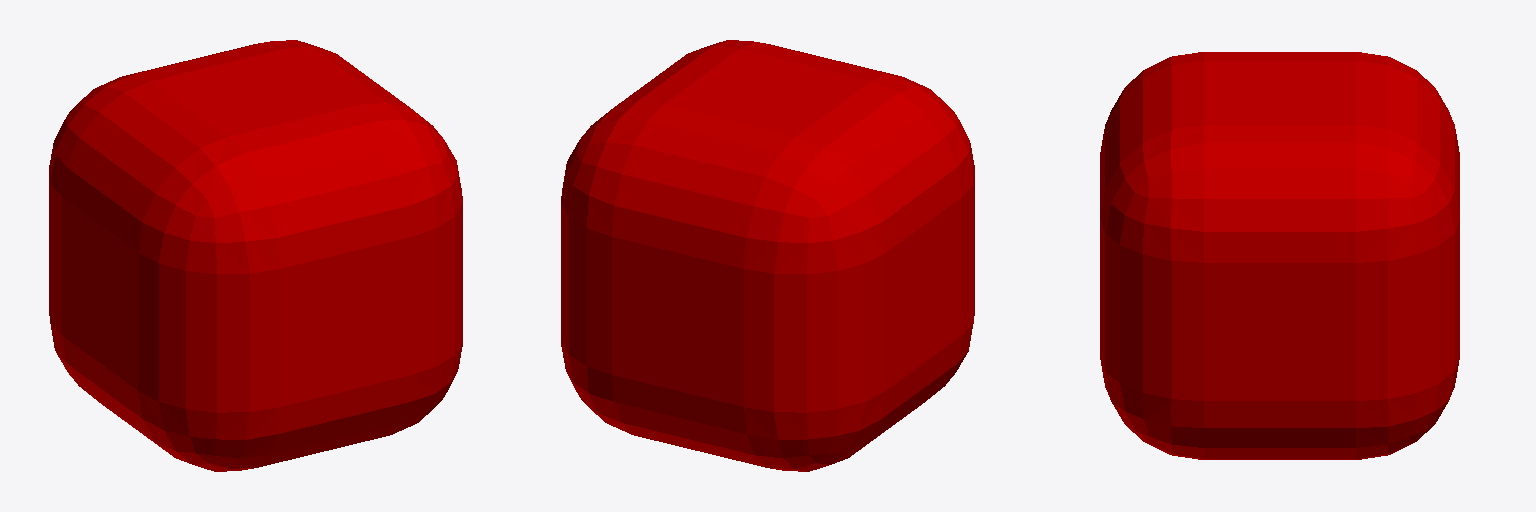
Rendered from bracky.obj.
3 renders of one model, left to right at view 1: azimuth 30°, elevation 25°; view 2: azimuth 150°, elevation 25°; view 3: azimuth 270°, elevation 25°, orthographic.
Visible parts, largest first — view 1: collision-col; view 2: collision-col; view 3: collision-col.
Boxes of the visible parts, box(x1,y1,x2,y2) form: collision-col: box(49, 40, 462, 471); collision-col: box(561, 40, 974, 471); collision-col: box(1100, 52, 1459, 459).
Size of the model in its own units: 2 by 2 by 2.